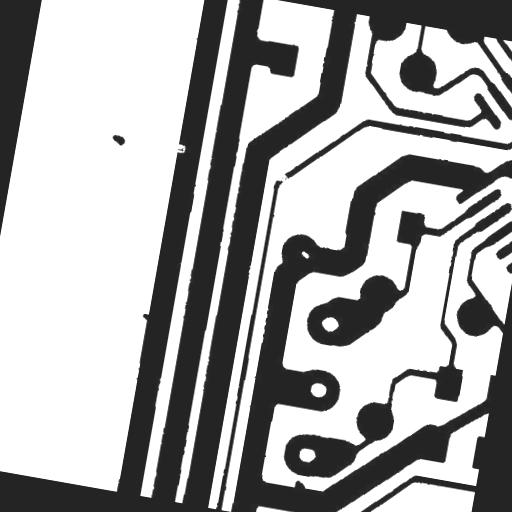copper: (102, 124, 134, 154)
mousebite: (165, 134, 194, 162)
open: (266, 163, 298, 192)
pin-hole: (292, 242, 318, 267)
spur: (285, 470, 314, 500), (132, 304, 161, 331)
